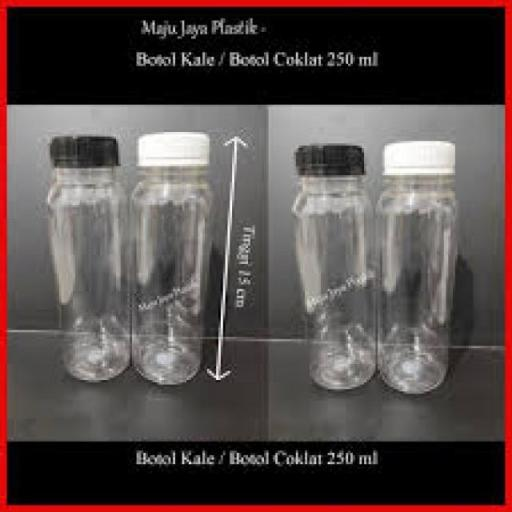plastic: (282, 134, 380, 395), (131, 132, 225, 388), (47, 114, 126, 391), (380, 138, 462, 403)
